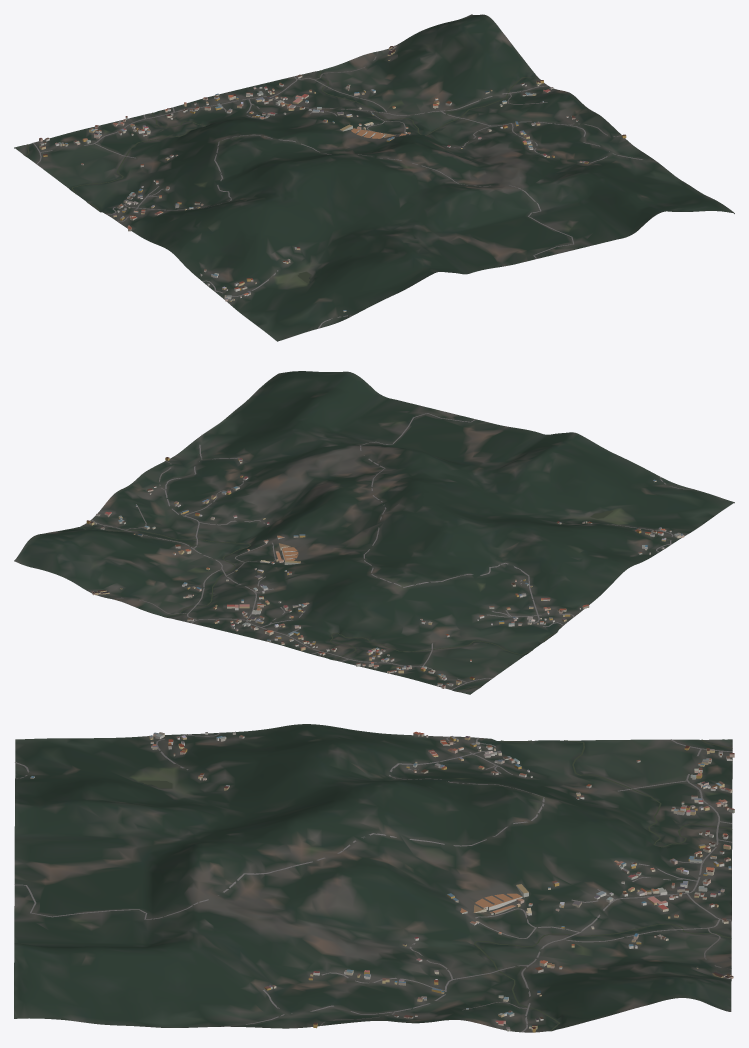
3 views of the same model, one above another, from view 1: azimuth 30°, elevation 25°; view 2: azimuth 150°, elevation 25°; view 3: azimuth 270°, elevation 25° (orthographic). The views are drawn at different scales.
Parts seen in each view (by area): view 1: ground, buildings, roads, water; view 2: ground, buildings, roads, water; view 3: ground, buildings, roads, water.
Boxes of the visible parts, box(x1,y1,x2,y2) form: ground: box(14, 14, 734, 341); buildings: box(39, 45, 626, 312); roads: box(33, 51, 658, 328); water: box(25, 70, 537, 282); ground: box(14, 371, 734, 694); buildings: box(86, 457, 684, 688); roads: box(18, 413, 694, 689); water: box(80, 510, 612, 691); ground: box(14, 724, 732, 1032); buildings: box(30, 731, 734, 1032); roads: box(14, 732, 732, 1032); water: box(139, 739, 732, 1030).
Bounding box in the file's own units: 1411 × 136 × 1409.
